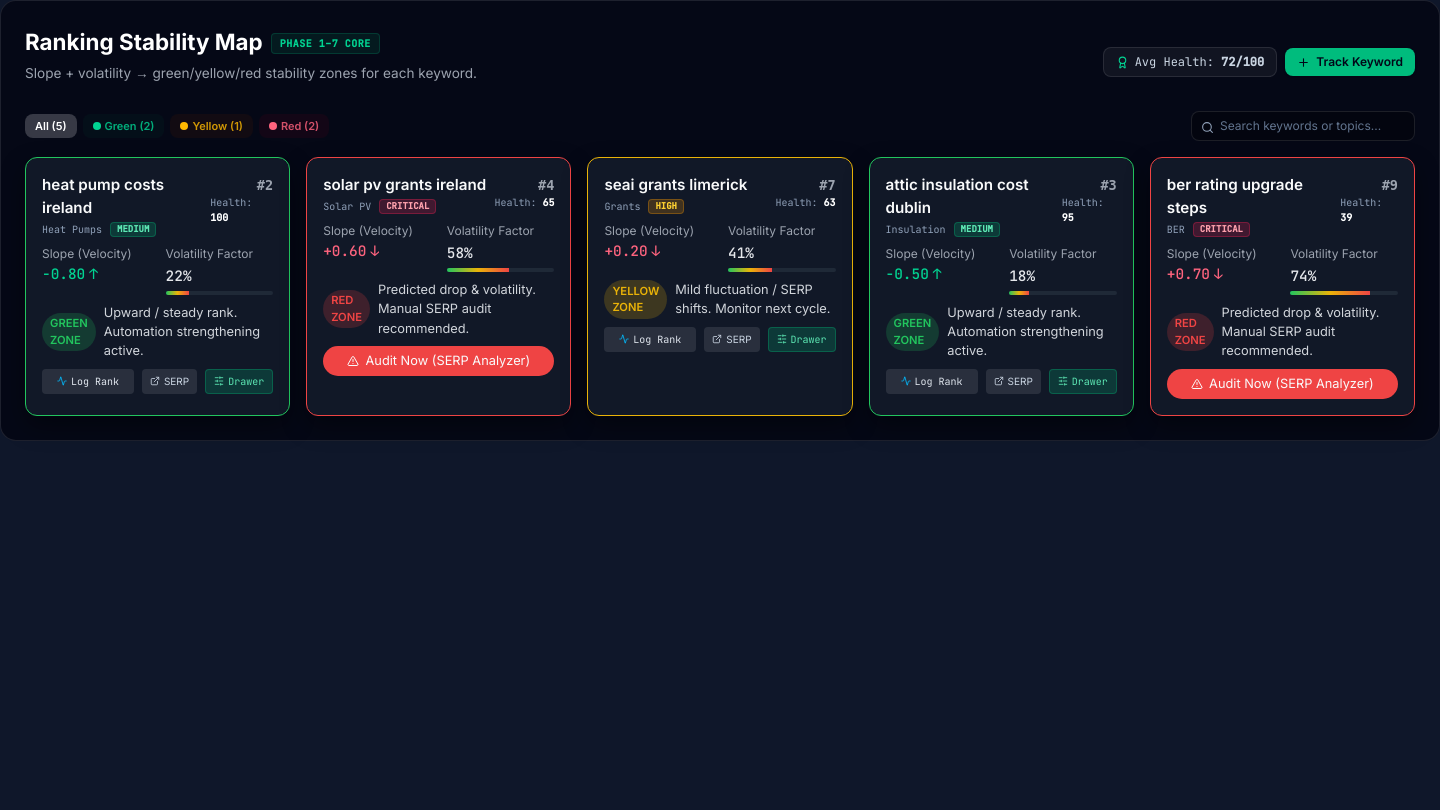
RankingStabilityMap Component Interactions › allows adding a custom tracked keyword and computes its zone
The image size is (1440, 810).
// Open add modal
Click the button "Track Keyword" at (1350, 62), box [1285, 48, 1415, 76]
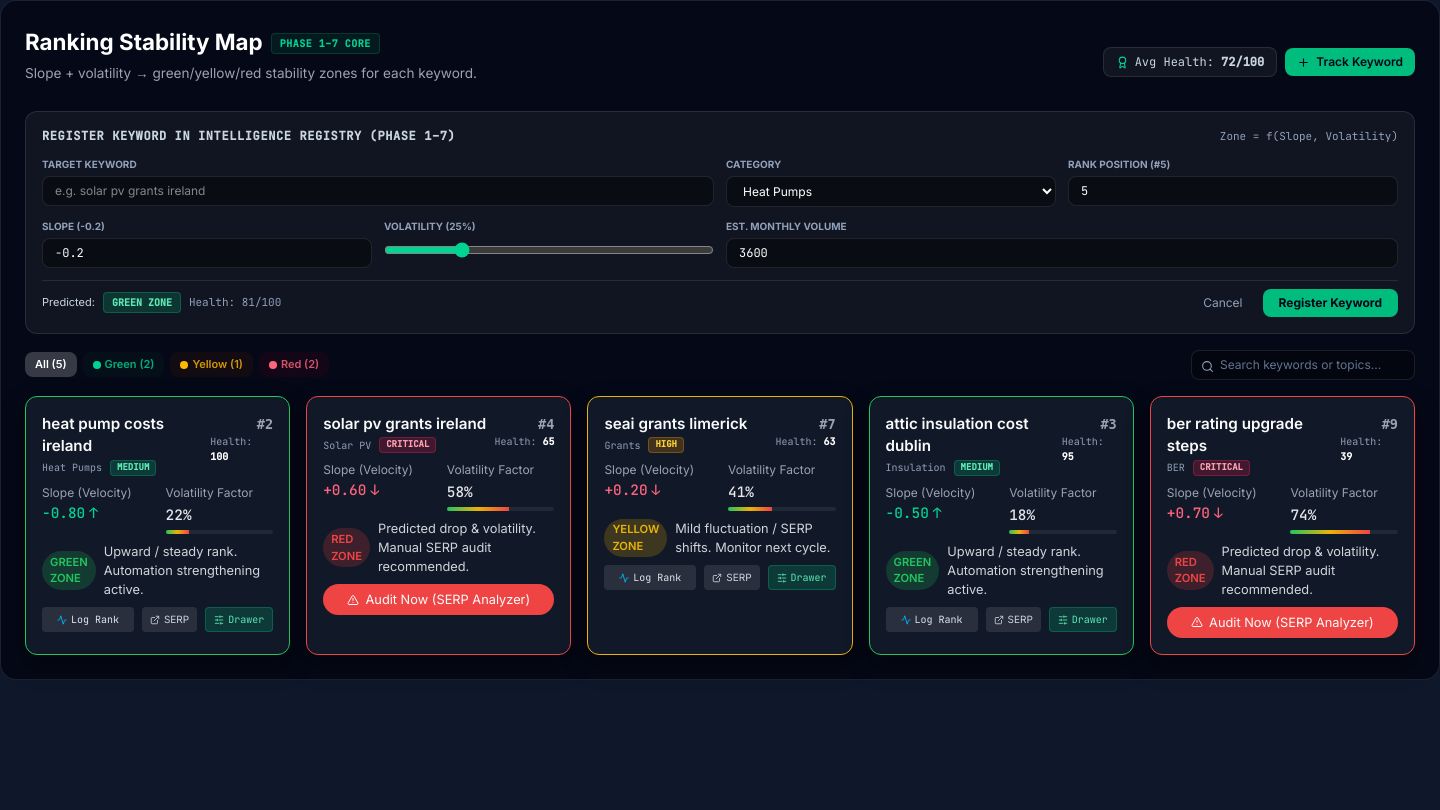
Result: the heading "Register Keyword in Intelligence Registry (Phase 1–7)" is shown at [42, 128, 455, 144]
Type "custom retrofit grant v94" into the field with placeholder "e.g. solar pv grants ireland" at (378, 190), box [42, 176, 714, 206]
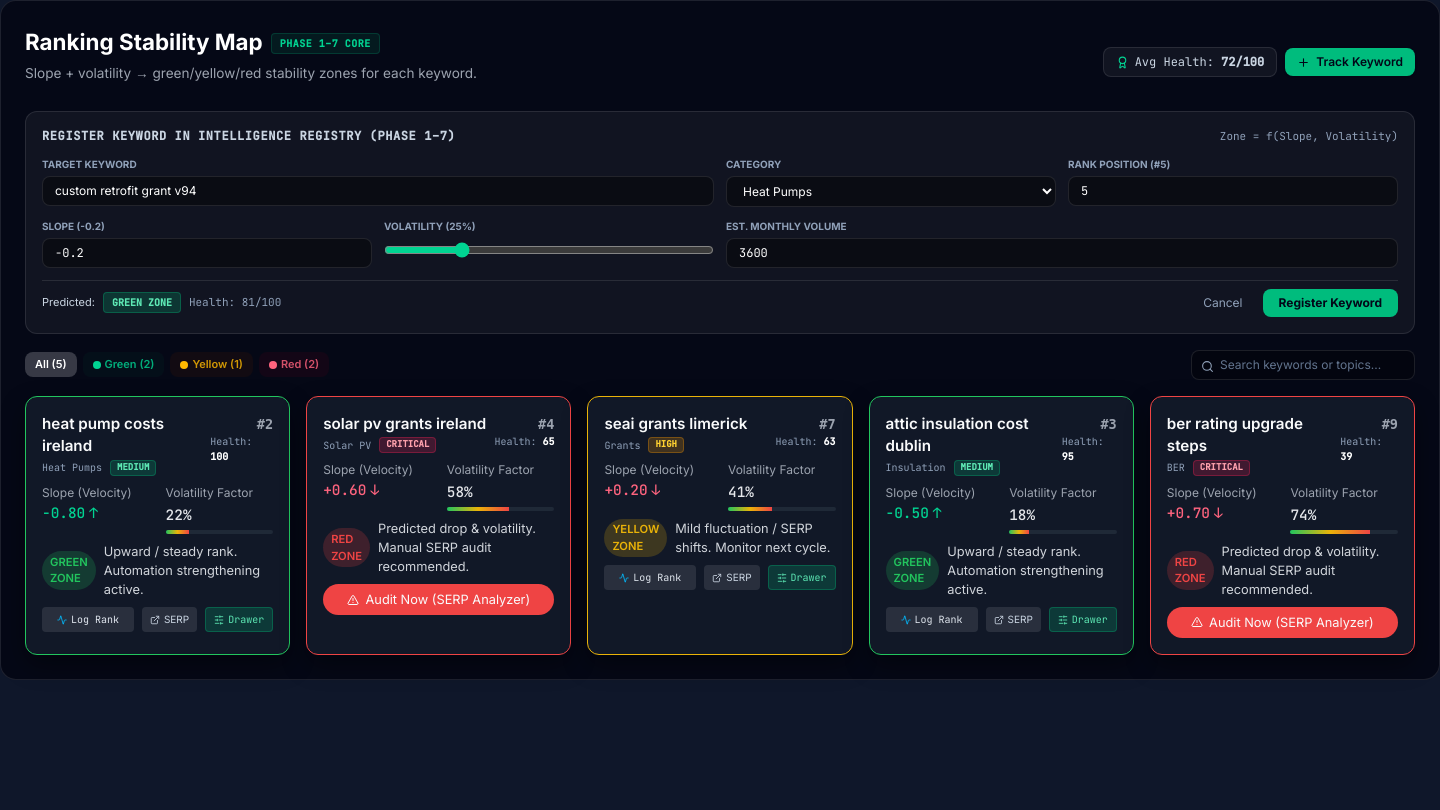
Click the button "Register Keyword" at (1330, 302), box [1262, 288, 1398, 316]
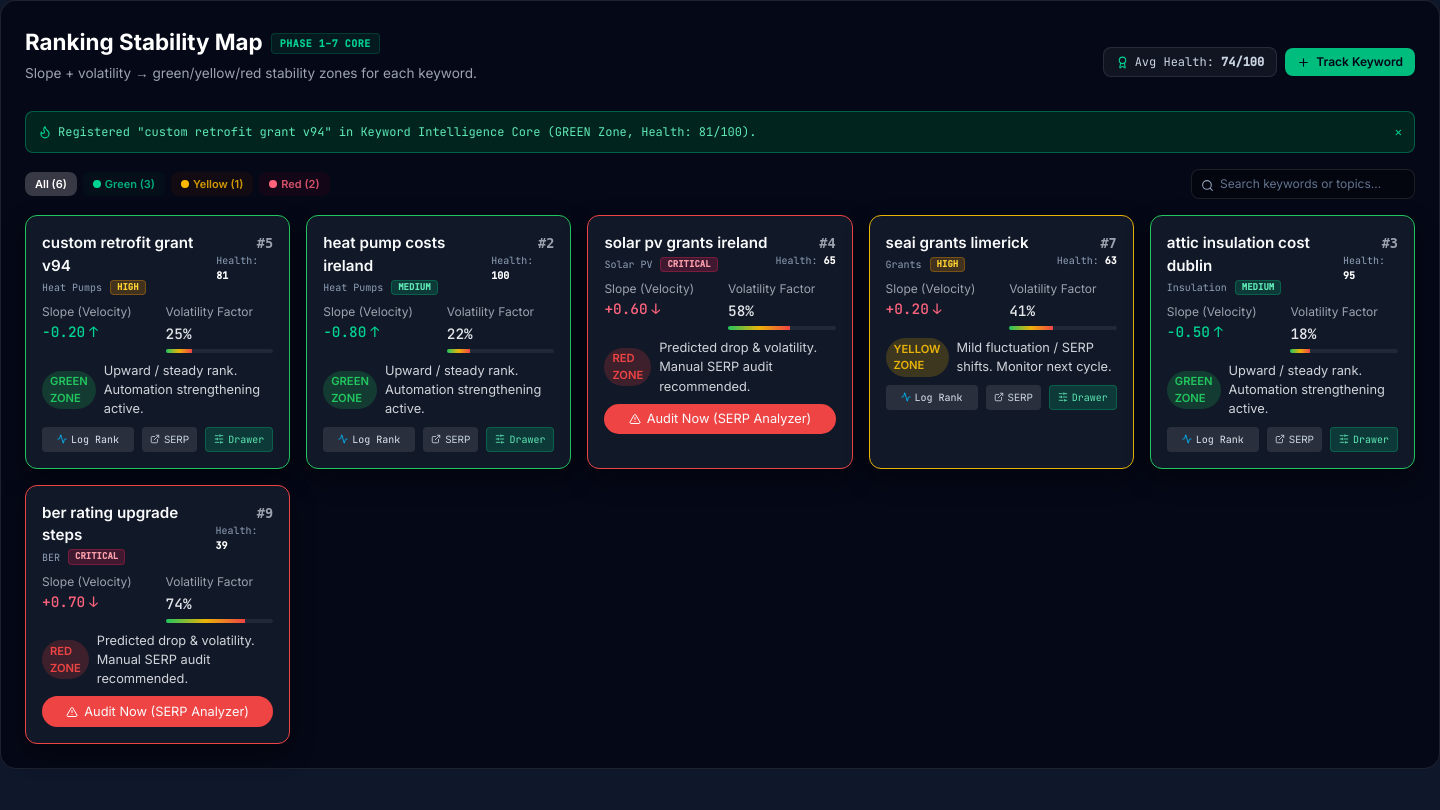
Result: the text "custom retrofit grant v94" is shown at [42, 232, 216, 278]
